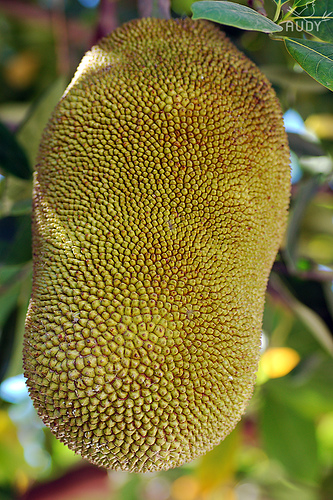jackfruit: (31, 10, 291, 475)
